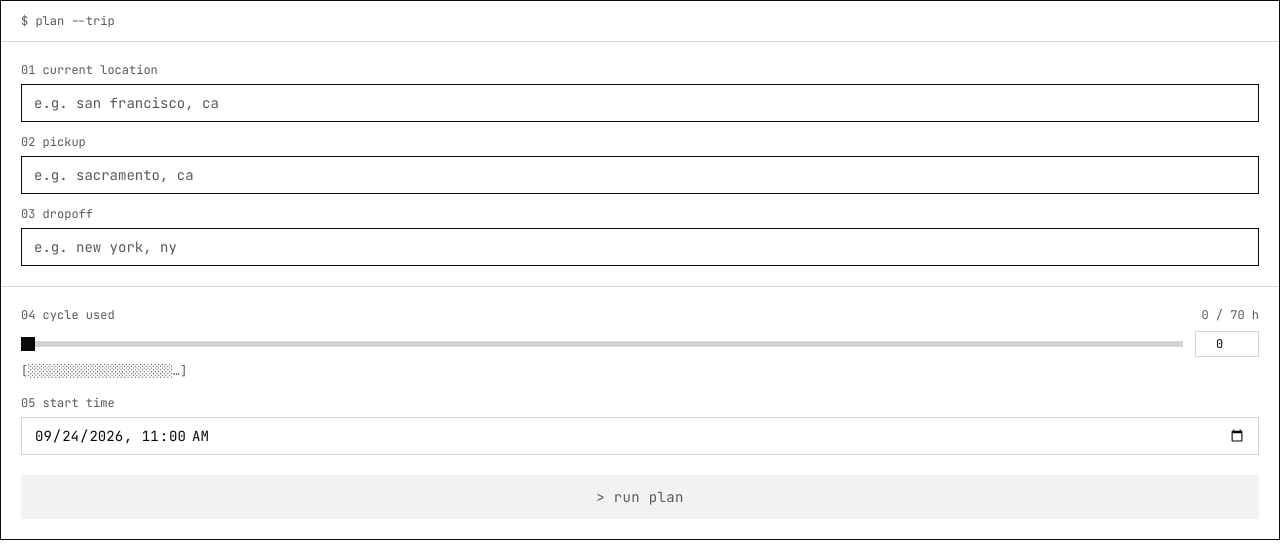
Test: TripForm › submit button enables when all fields are filled
The width and height of the screenshot is (1280, 557).
Type "San Francisco, CA" into the dropdown labelled "01 current location".
click(640, 103); type("San Francisco, CA")  # box [34,93,1246,113]
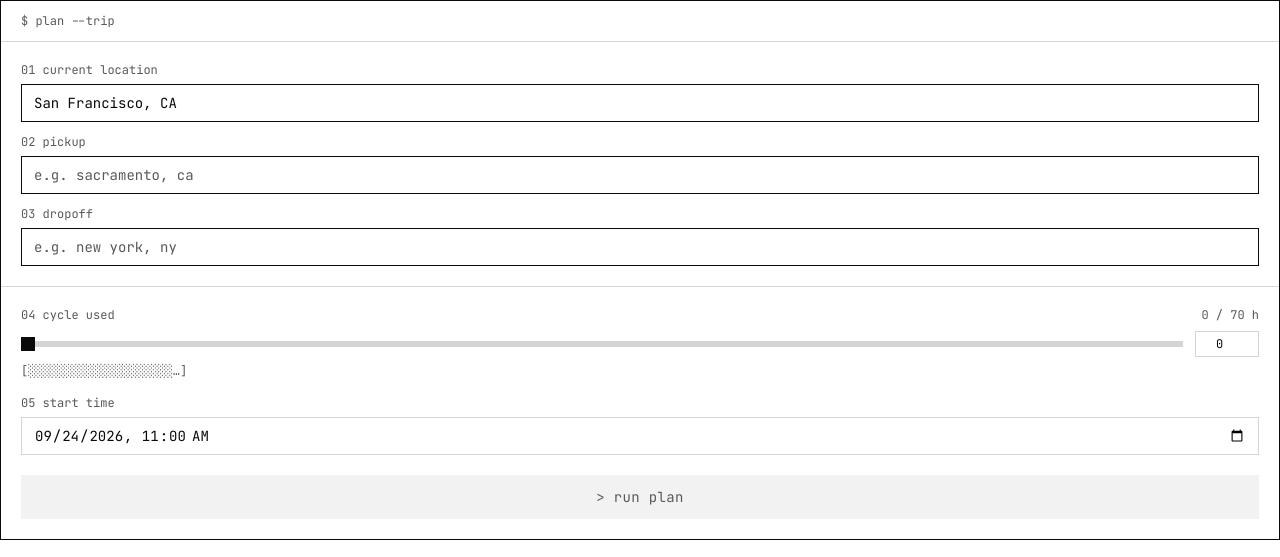
Type "Sacramento, CA" into the dropdown labelled "02 pickup".
click(640, 175); type("Sacramento, CA")  # box [34,165,1246,185]
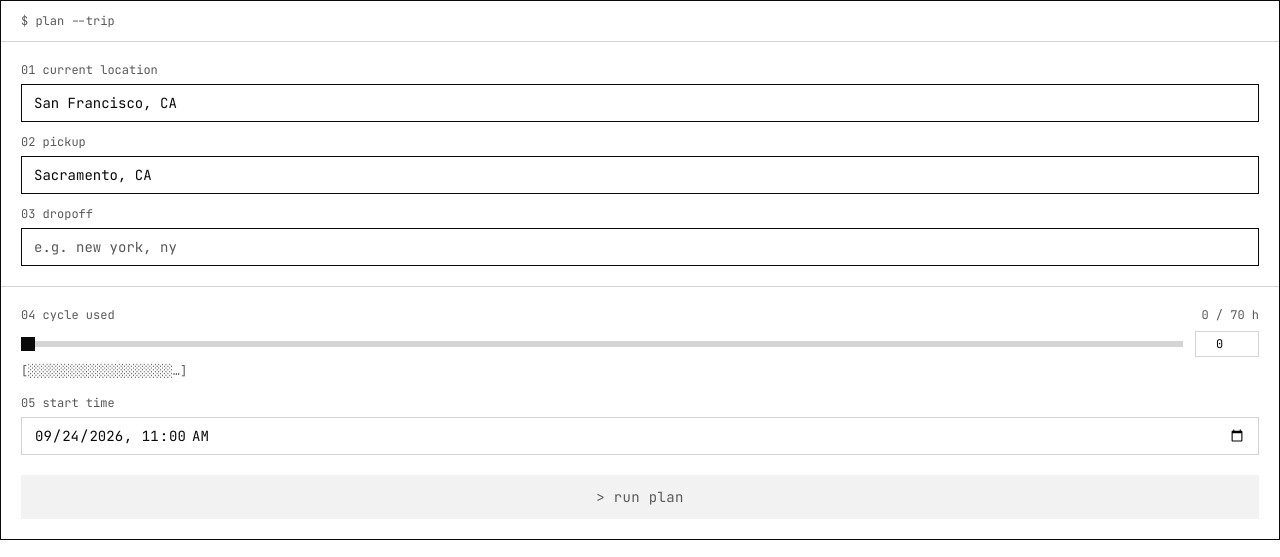
Type "New York, NY" into the dropdown labelled "03 dropoff".
click(640, 247); type("New York, NY")  # box [34,237,1246,257]
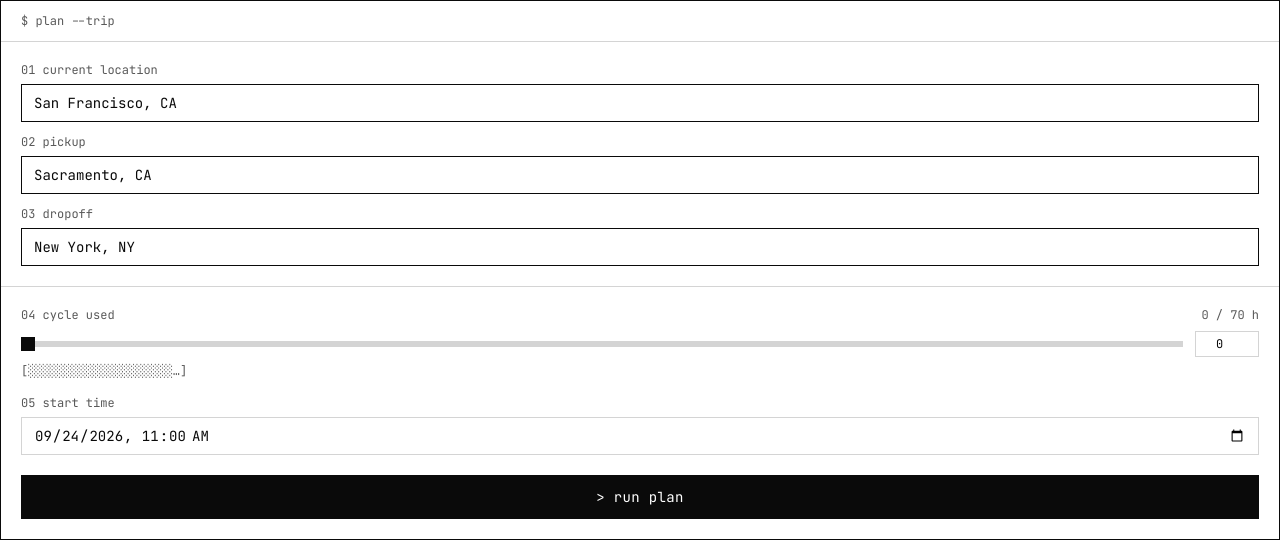
Check: the button "> run plan" is enabled, box [21,475,1259,519]
